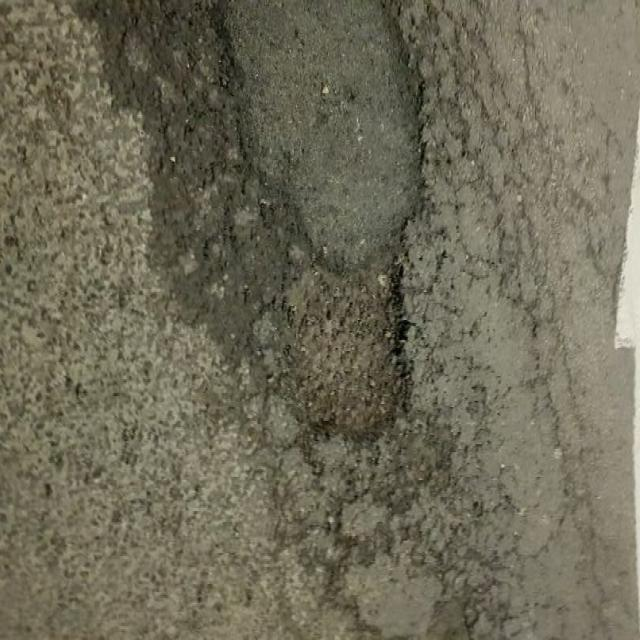pothole: (262, 227, 419, 456)
